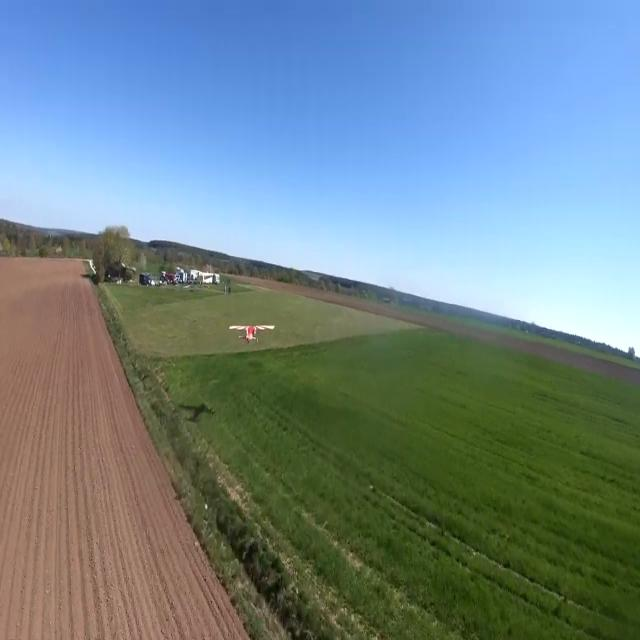iha: (225, 315, 277, 336)
